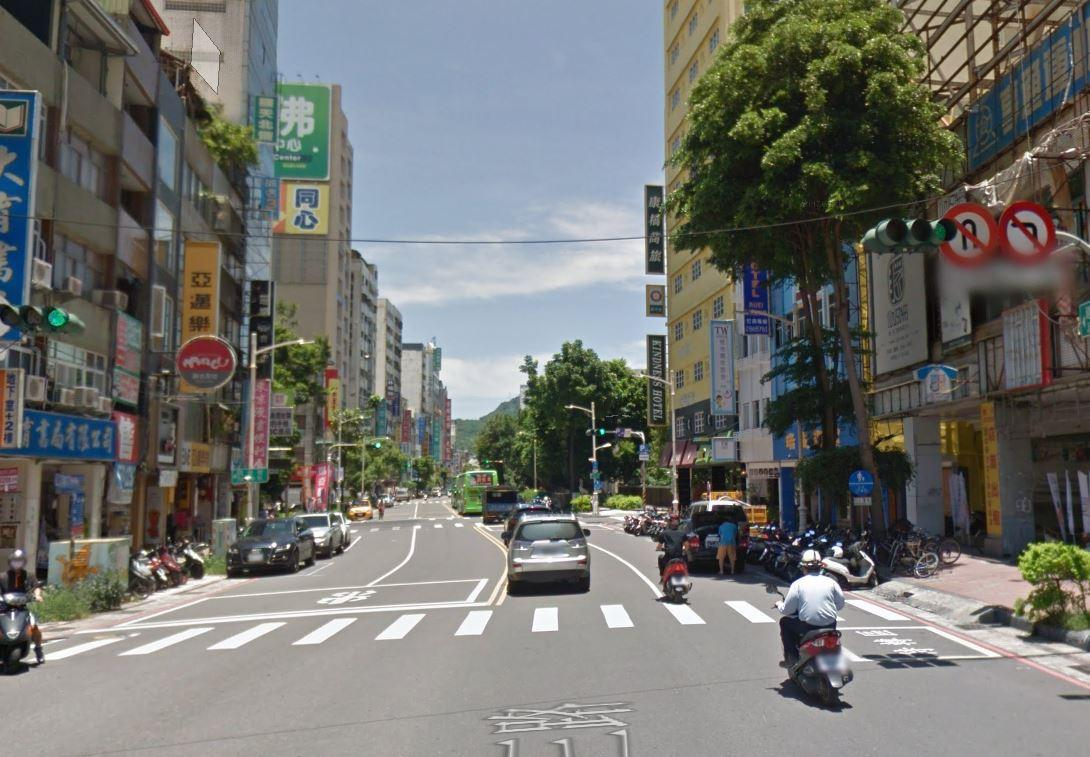car: (507, 498, 600, 592), (223, 506, 319, 574), (301, 506, 344, 552), (475, 485, 520, 523)
green_traffic_light: (862, 217, 957, 252), (1, 297, 84, 336)
motorcycle: (766, 565, 860, 709), (0, 548, 50, 675), (646, 530, 698, 601)
